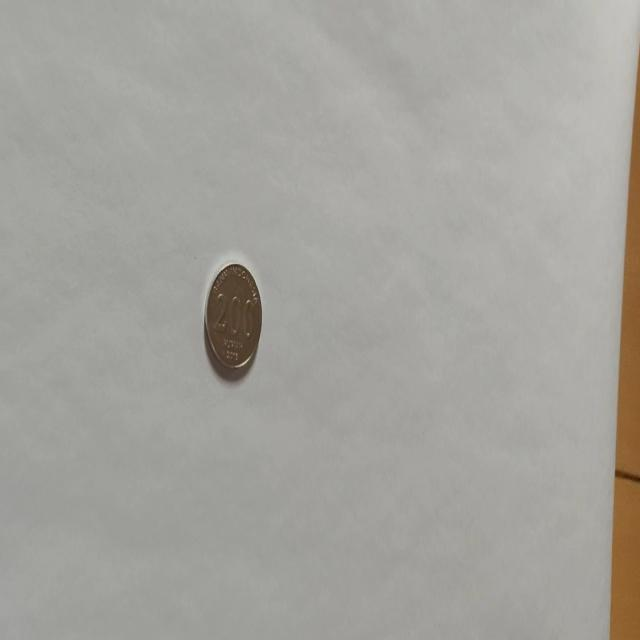dua ratus rupiah: (203, 260, 263, 372)
